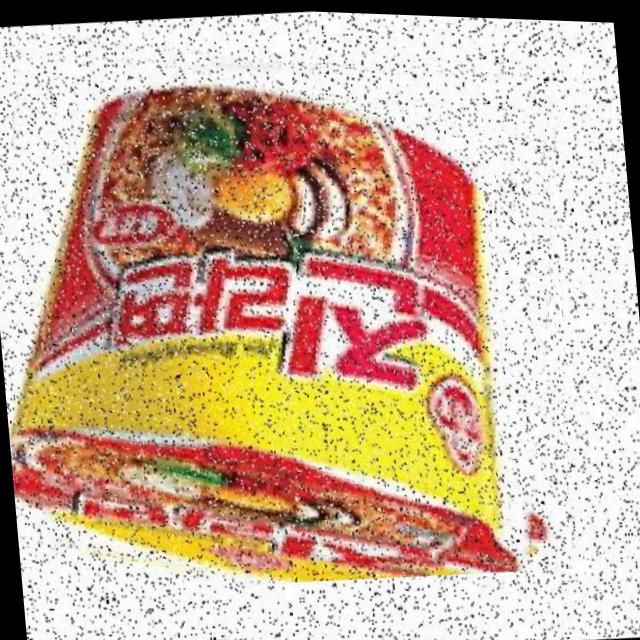Miscellaneous: (0, 4, 583, 612)
